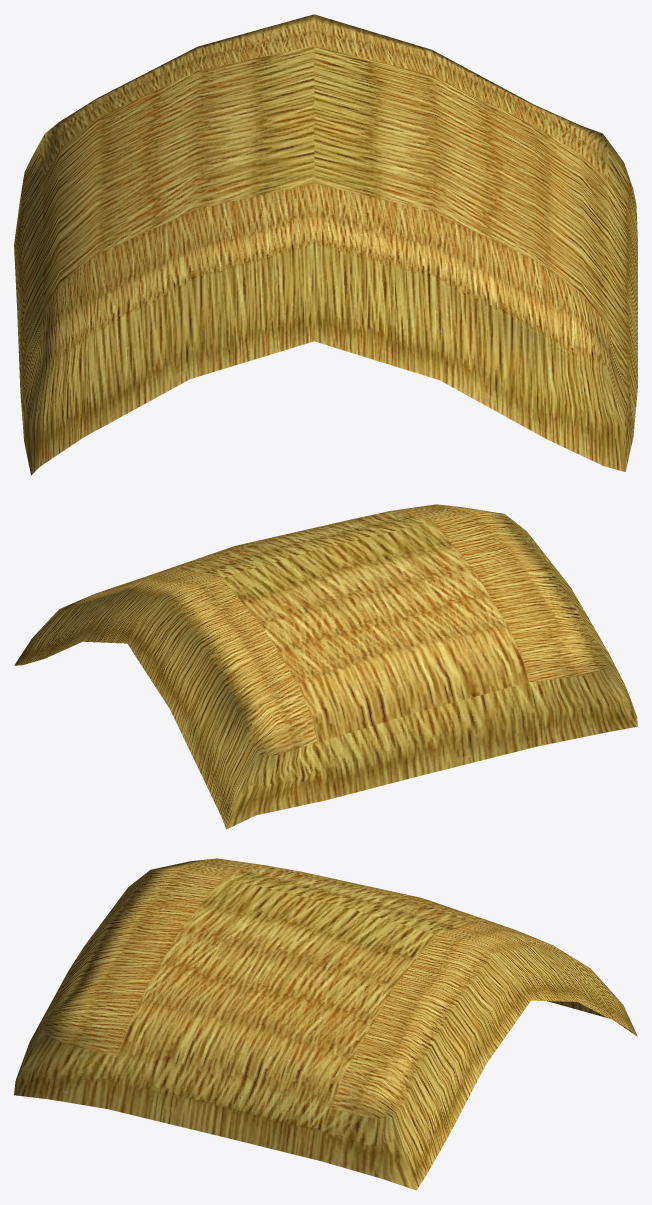
Rendered from HTOWN01_HANNASHEDROOF.fbx.
3 renders of one model, top to bottom at view 1: azimuth 30°, elevation 25°; view 2: azimuth 150°, elevation 25°; view 3: azimuth 270°, elevation 25°, orthographic. The views are drawn at different scales.
Visible parts, largest first — view 1: HTOWN01_HANNASHEDROOF; view 2: HTOWN01_HANNASHEDROOF; view 3: HTOWN01_HANNASHEDROOF.
Part boxes in pixels (x1,y1,x2,y2): HTOWN01_HANNASHEDROOF: [14, 14, 637, 475]; HTOWN01_HANNASHEDROOF: [14, 504, 637, 829]; HTOWN01_HANNASHEDROOF: [14, 858, 637, 1190].
Bounding box in the file's own units: 51675 × 14880 × 52620.
Materials: 4 (4 with a texture image).
